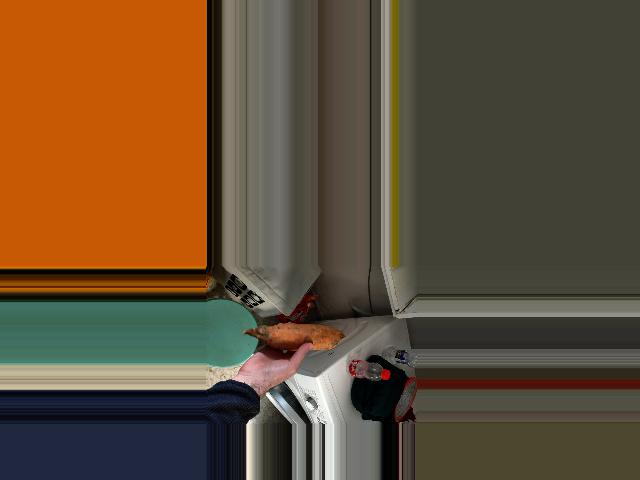sweet_potato: (252, 323, 332, 354)
